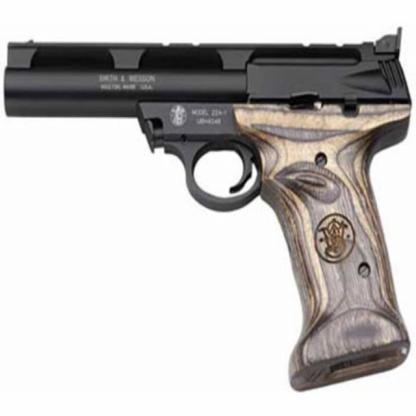weapon: (5, 26, 412, 391)
